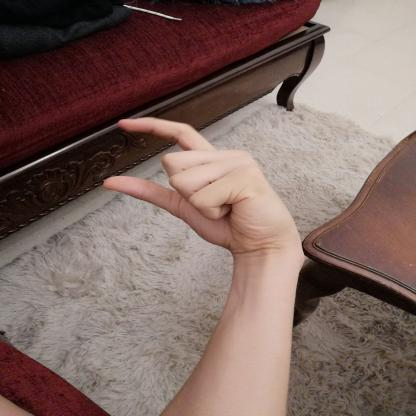DELL: (92, 106, 310, 262)
